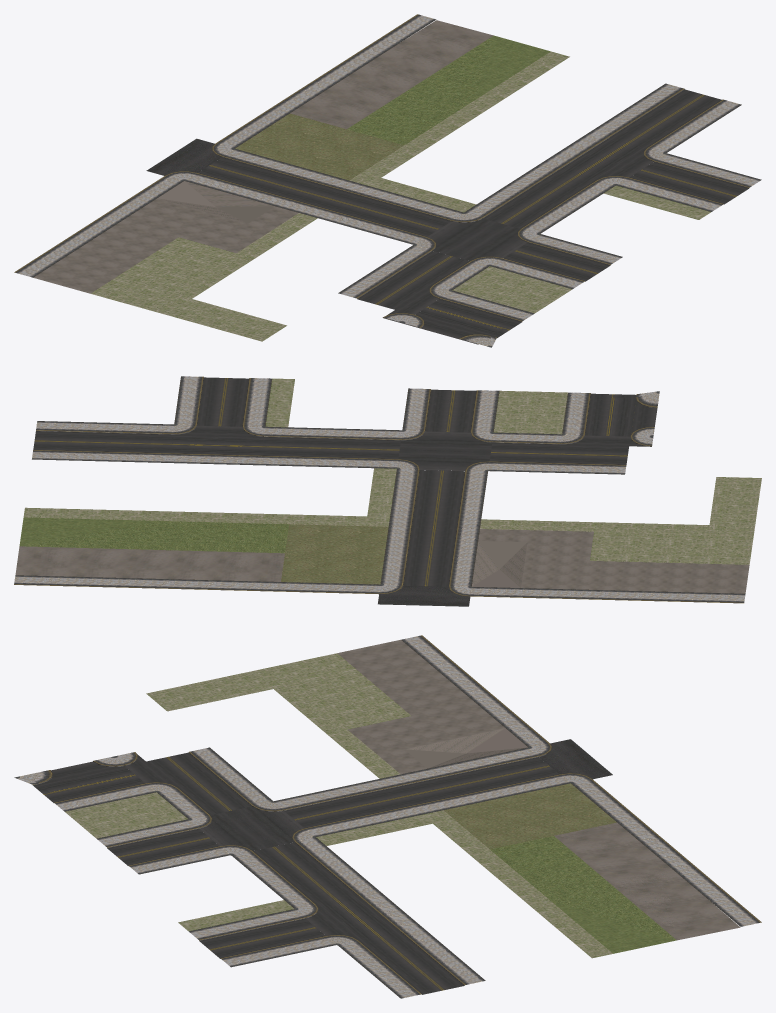
The model's file is s_bit_06_2.obj.
3 views of the same model, one above another, from view 1: azimuth 30°, elevation 25°; view 2: azimuth 150°, elevation 25°; view 3: azimuth 270°, elevation 25° (orthographic). The views are drawn at different scales.
Visible parts, largest first — view 1: s_bit_06_2; view 2: s_bit_06_2; view 3: s_bit_06_2.
Boxes of the visible parts, bbox=[...] form: s_bit_06_2: bbox=[14, 14, 761, 347]; s_bit_06_2: bbox=[14, 376, 761, 606]; s_bit_06_2: bbox=[14, 635, 761, 998].
Bounding box in the file's own units: 181 × 1.19 × 157.
Materials: 6 (6 with a texture image).
